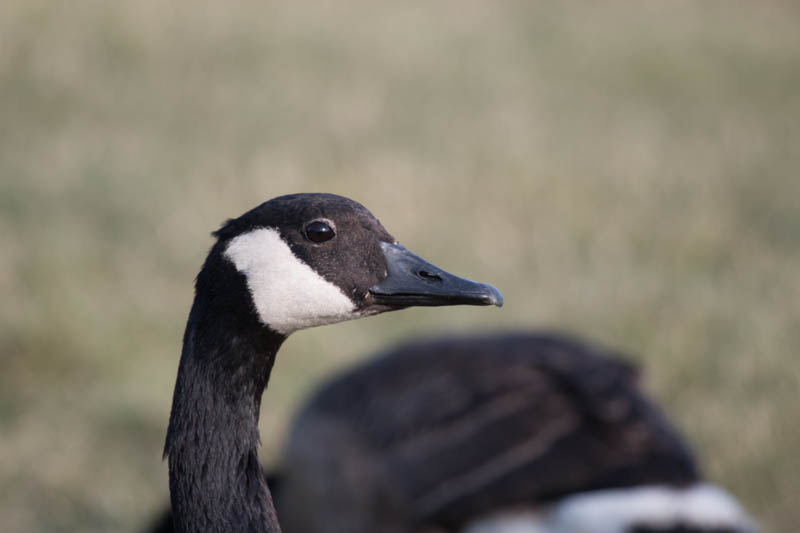goose-head: (184, 190, 504, 335)
